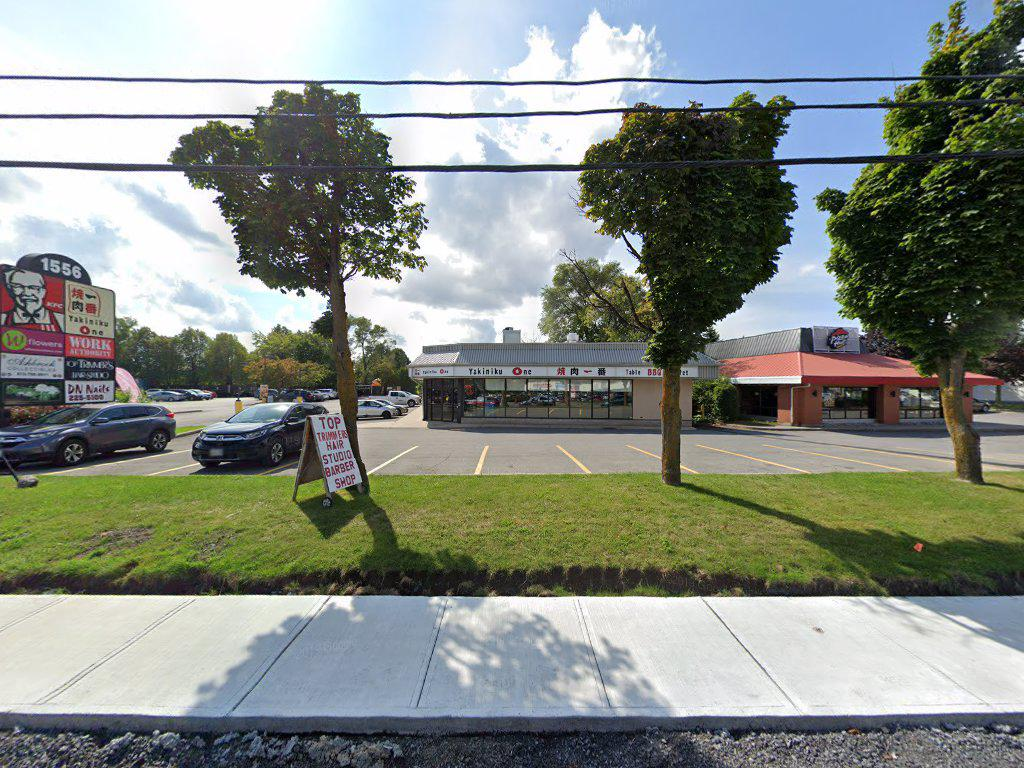trunk: (938, 360, 982, 486), (658, 361, 687, 495)
